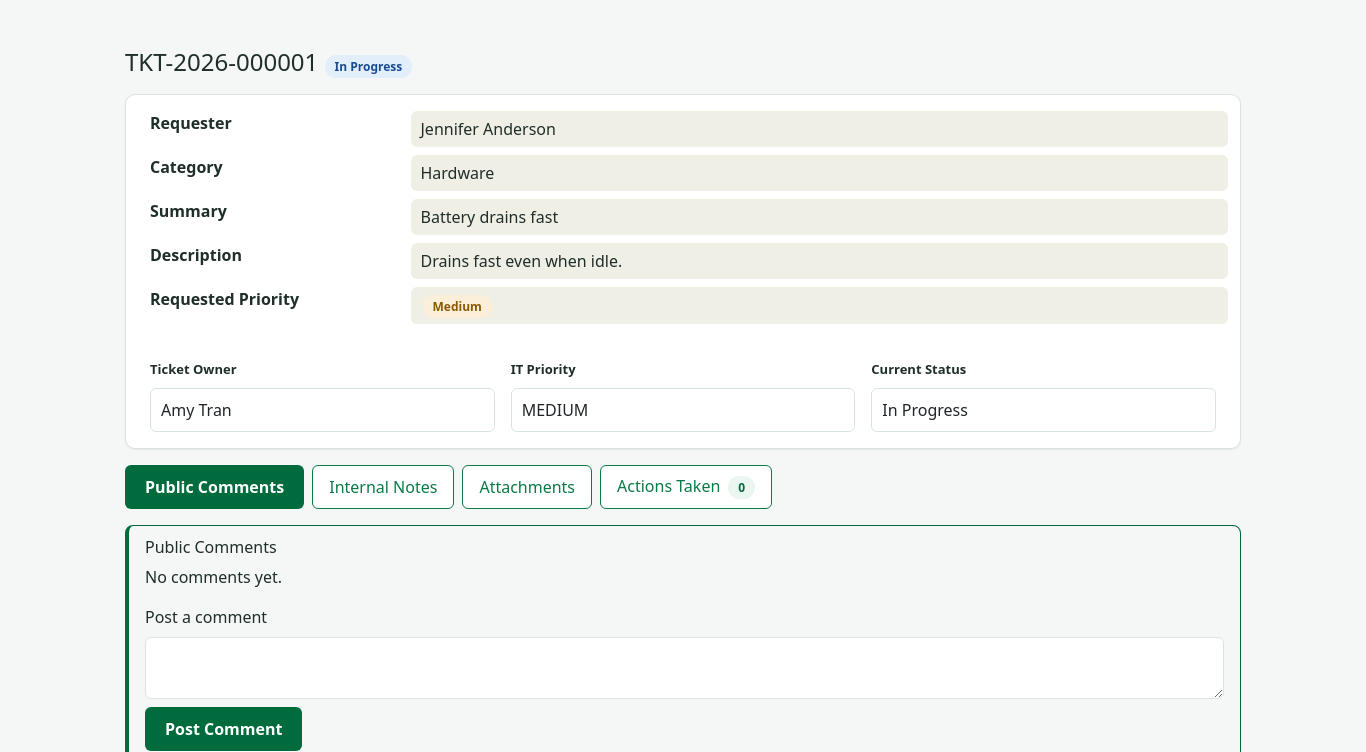
Test case: StaffTicketDetail › a 409 TICKET_LOCKED on a status change shows an inline callout and reverts to the last known-good value
Expected: the heading "TKT-2026-000001 In Progress" is shown, [125,45,412,78]
Select "Resolved" in the dropdown labelled "Current Status" at (1044, 410), box [871,388,1216,432]
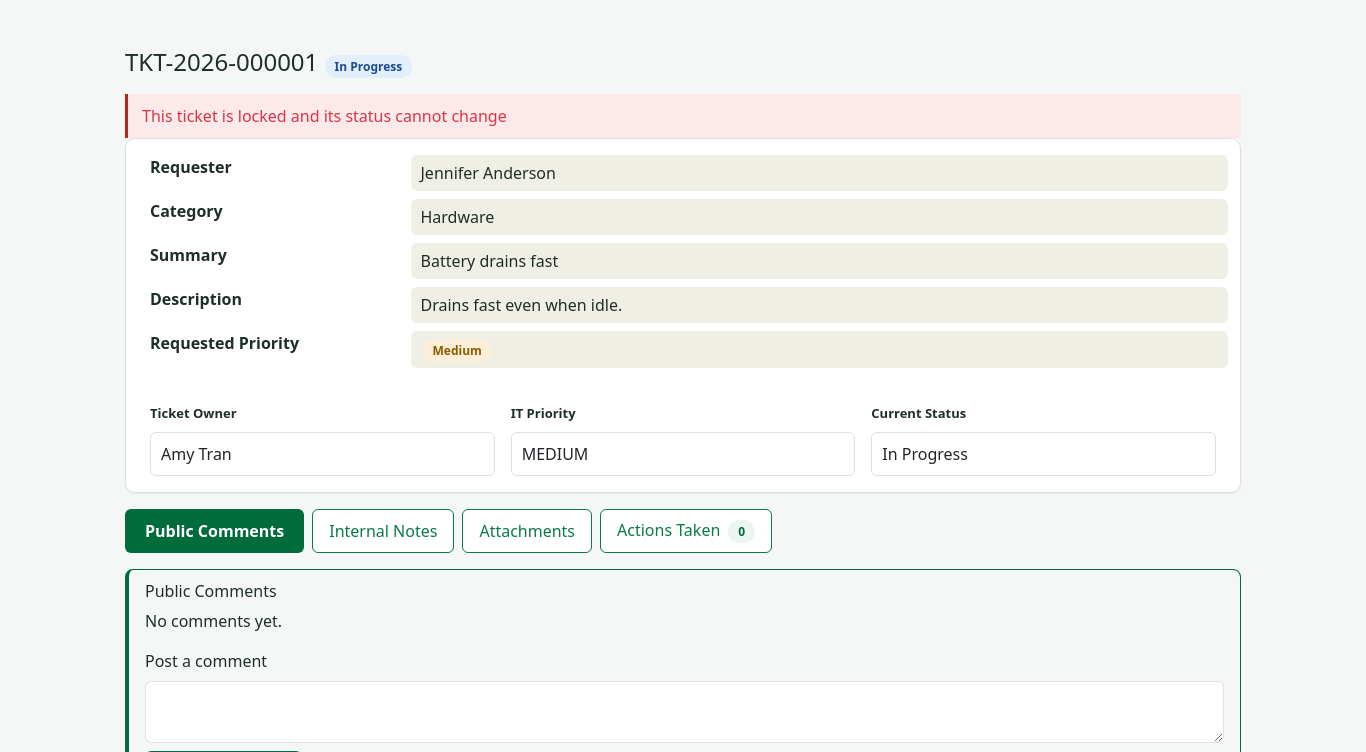
Now the text "This ticket is locked and its status cannot change" is shown, box [142,105,507,127]
